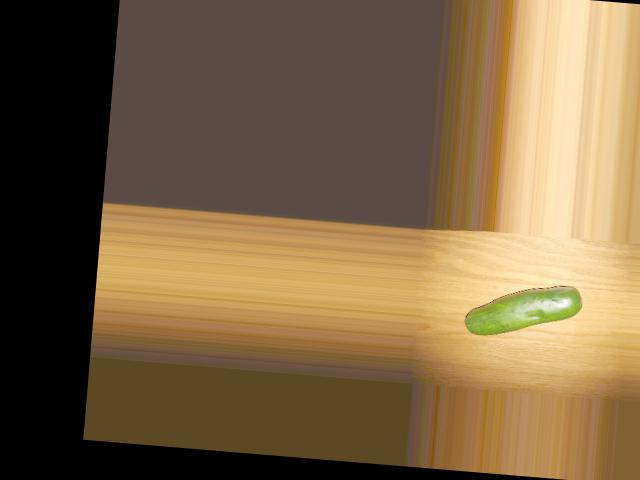cucumber: (463, 277, 581, 342)
